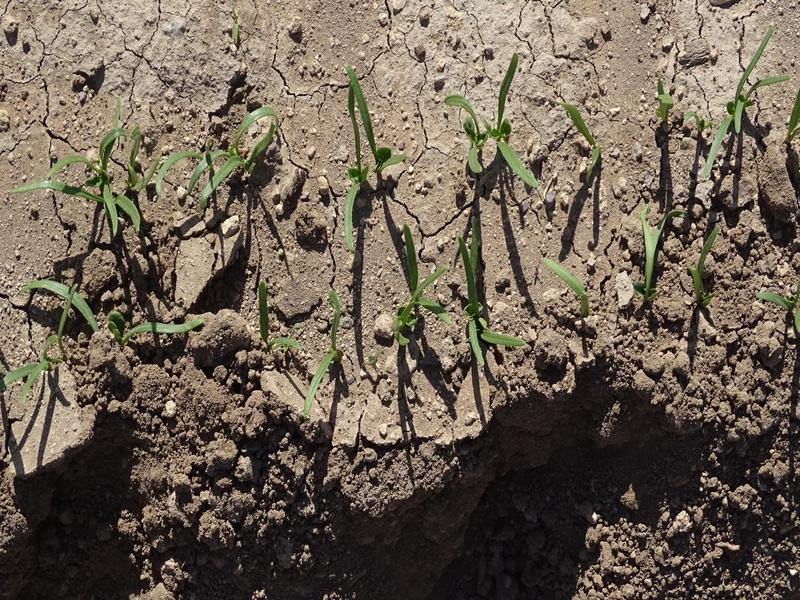Espinaca: (14, 104, 288, 225), (8, 270, 200, 388), (387, 235, 517, 366), (449, 53, 541, 191), (703, 29, 784, 181), (342, 60, 396, 247), (636, 208, 726, 303), (302, 292, 350, 412), (569, 108, 612, 173), (543, 257, 592, 299)
